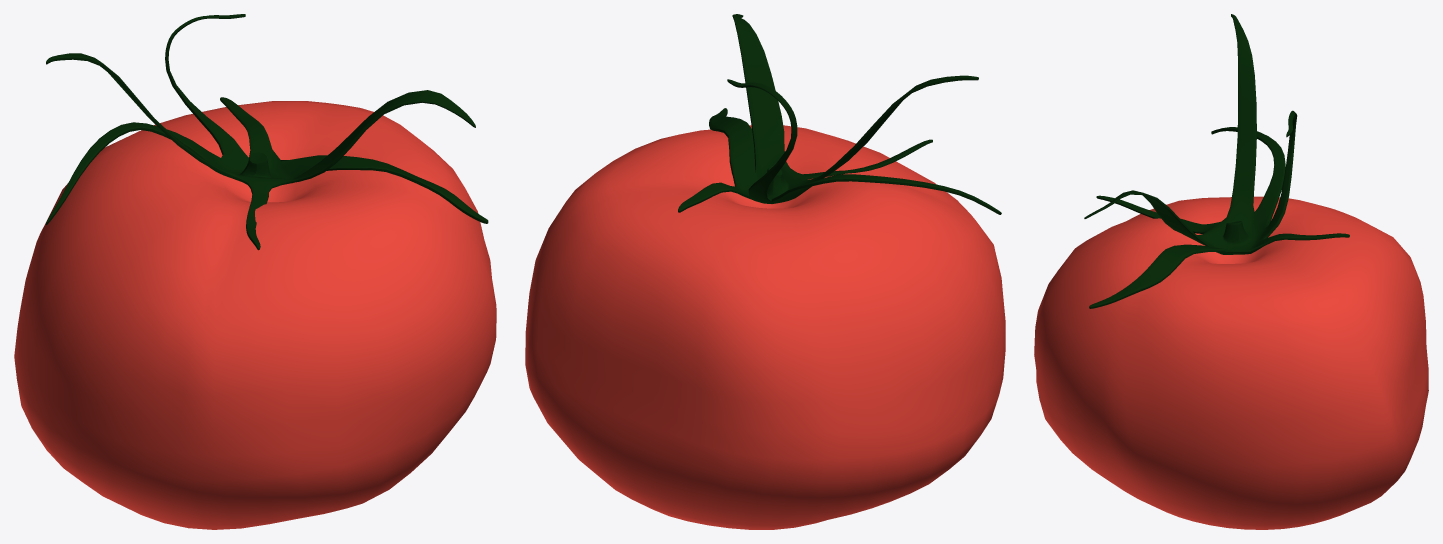
The model's file is Tomato_02.fbx.
The picture shows the model from 3 angles, left to right: view 1: azimuth 30°, elevation 25°; view 2: azimuth 150°, elevation 25°; view 3: azimuth 270°, elevation 25°; orthographic projection. The views are drawn at different scales.
Parts seen in each view (by area): view 1: TomatoSample2_LOD0; view 2: TomatoSample2_LOD0; view 3: TomatoSample2_LOD0.
Part boxes in pixels (x1,y1,x2,y2): TomatoSample2_LOD0: (14, 14, 496, 529); TomatoSample2_LOD0: (525, 14, 1005, 529); TomatoSample2_LOD0: (1034, 14, 1428, 529).
Size of what is drawn, in the model's own units: 31.33 by 33 by 29.71.
